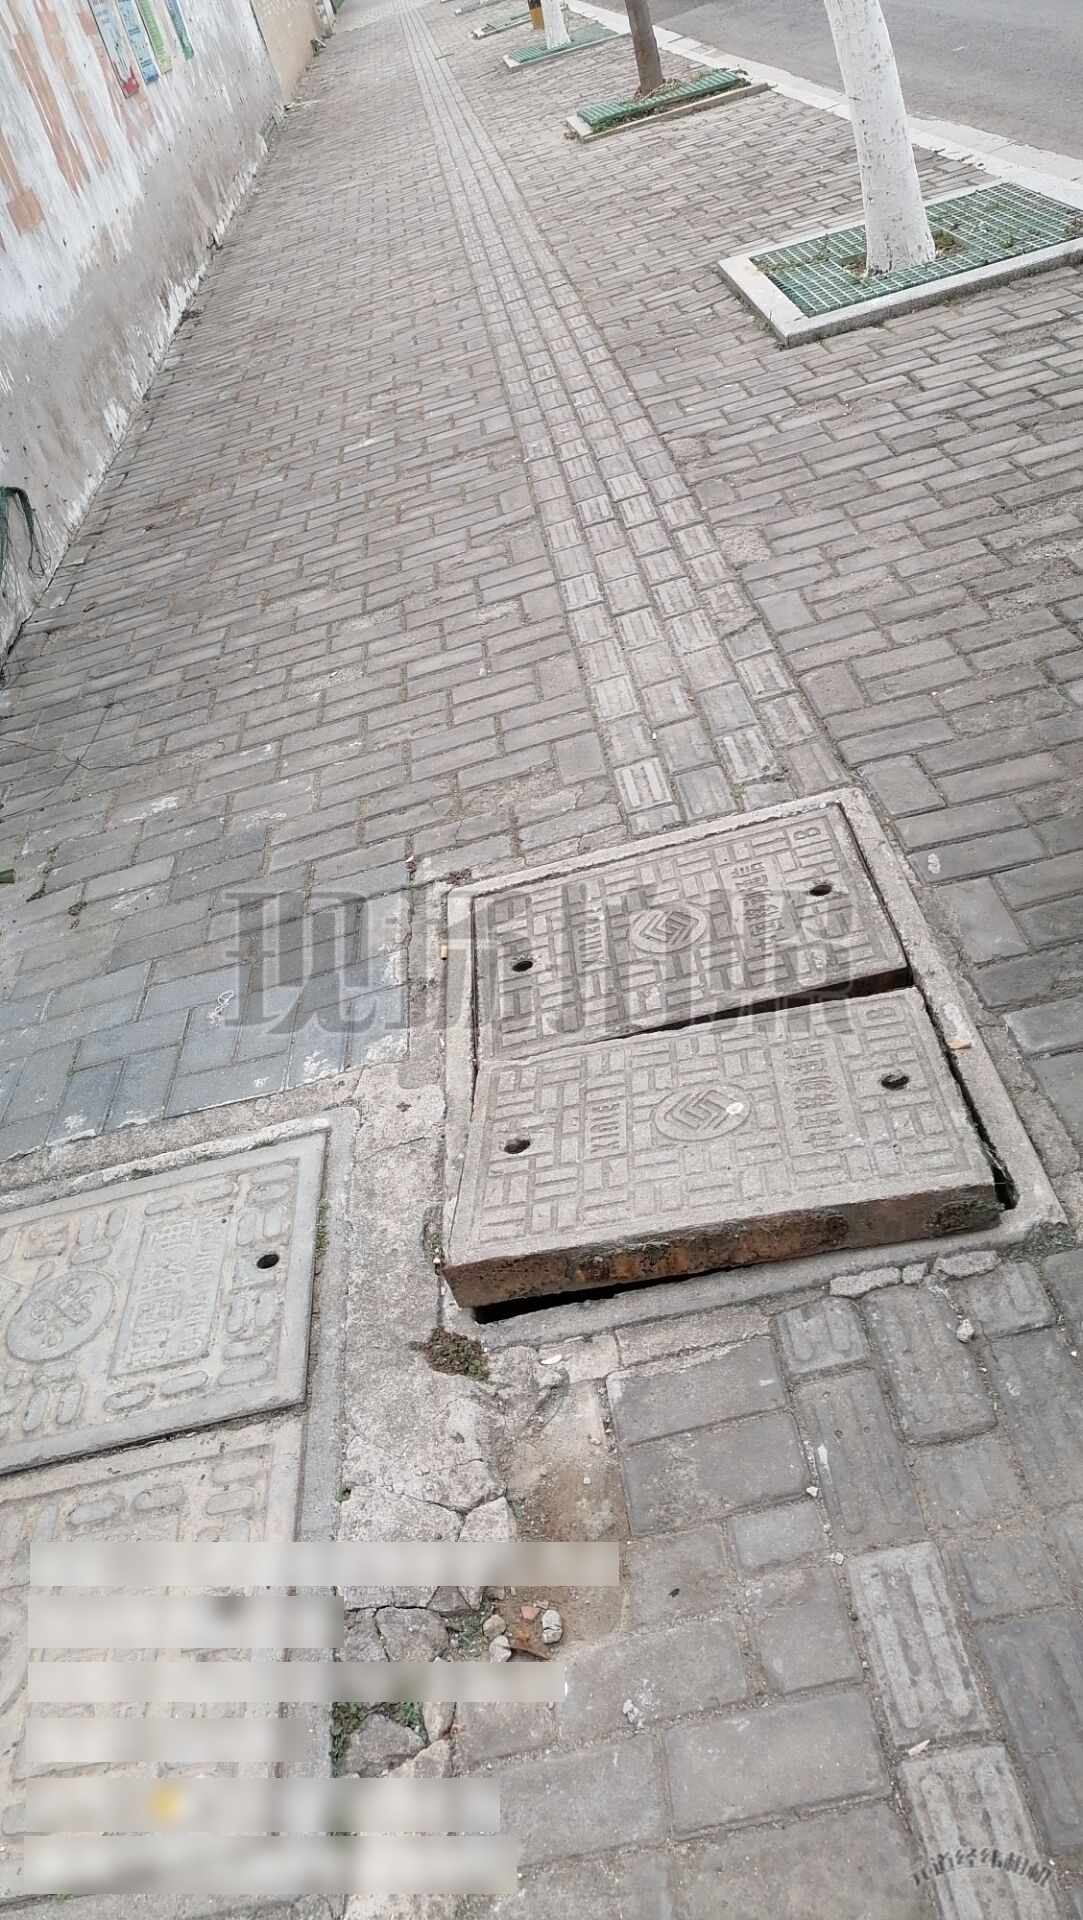good: (15, 1112, 375, 1920)
uncovered: (431, 786, 1072, 1340)
